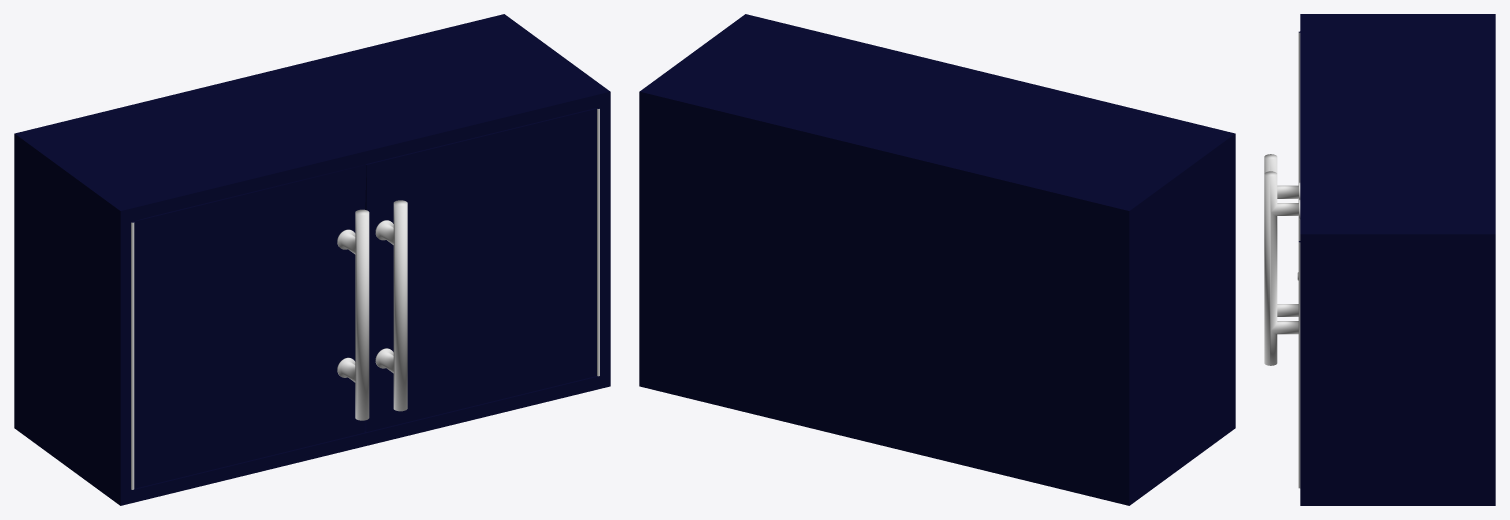
The model's file is wallMount40Lux.glb.
The picture shows the model from 3 angles, left to right: view 1: azimuth 30°, elevation 25°; view 2: azimuth 150°, elevation 25°; view 3: azimuth 270°, elevation 25°; orthographic projection. The views are drawn at different scales.
Parts seen in each view (by area): view 1: doors, upperShell, handles, hinge, root; view 2: upperShell; view 3: upperShell, handles, hinge.
Boxes of the visible parts, x1,y1,x2,y2 form: doors: (134, 109, 596, 488); upperShell: (14, 14, 610, 505); handles: (337, 200, 407, 420); hinge: (131, 109, 599, 489); root: (131, 108, 599, 431); upperShell: (639, 14, 1235, 505); upperShell: (1300, 14, 1495, 505); handles: (1264, 154, 1300, 365); hinge: (1298, 32, 1300, 488).
Size of the model in its own units: 1.02 by 0.5842 by 0.4508.
